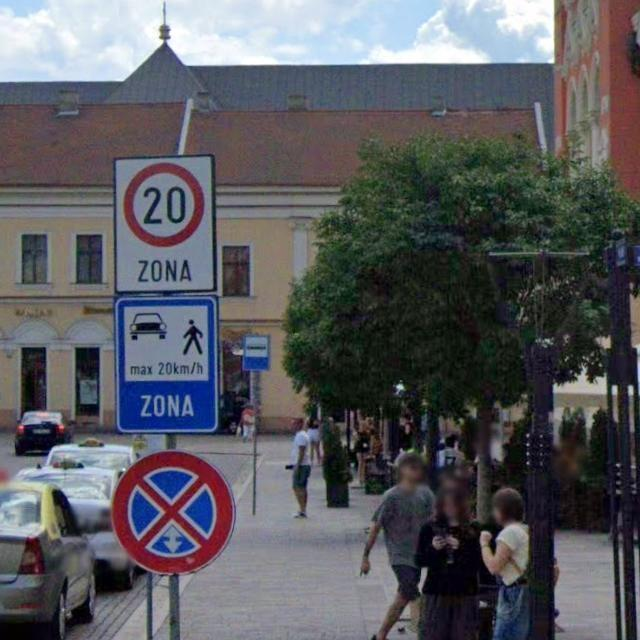forb_speed_over_20: (123, 161, 207, 247)
forb_waiting: (112, 451, 237, 576)
